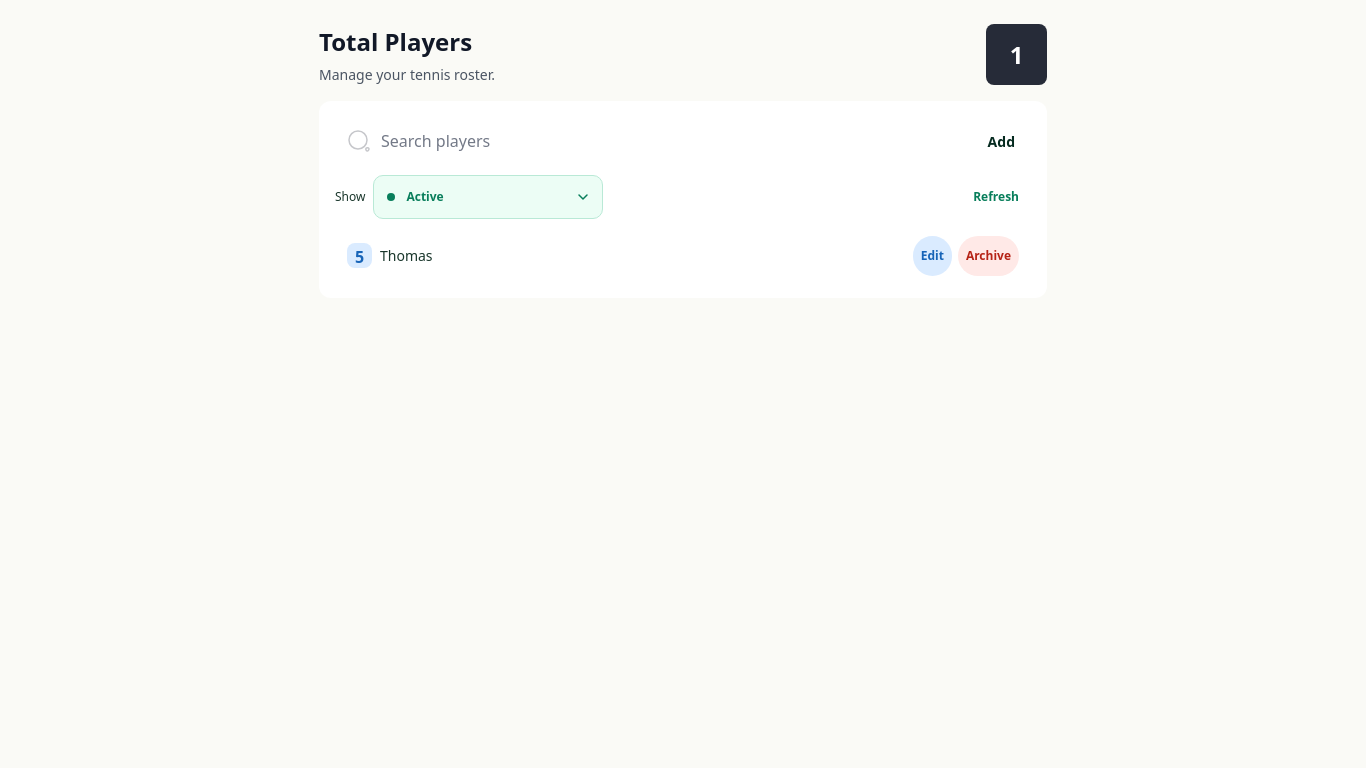
Scenario: normalizes invalid edit skill input to one and clamps values above ten
The image size is (1366, 768).
Click the button with aria-label "Edit Thomas": [932, 256] box [913, 236, 952, 276]
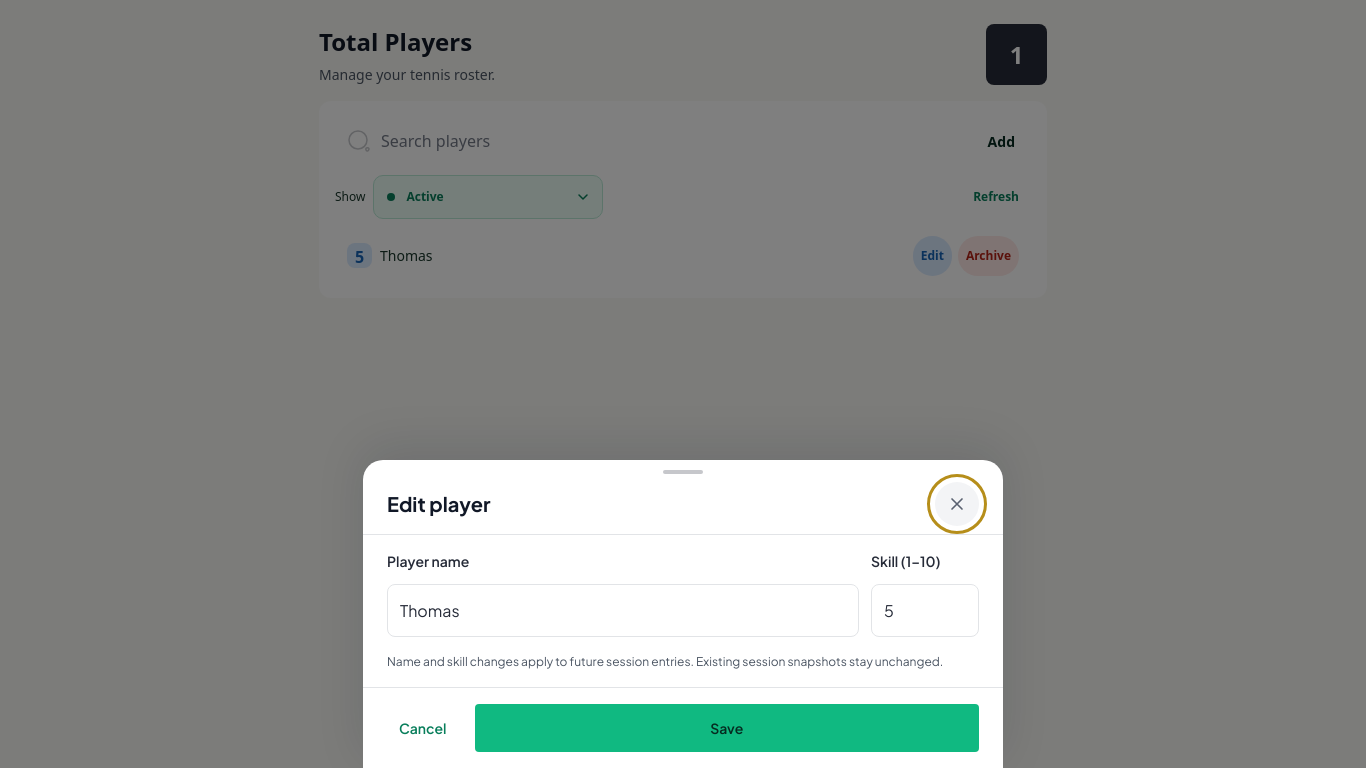
Clear the number field: [925, 610] box [871, 584, 979, 637]
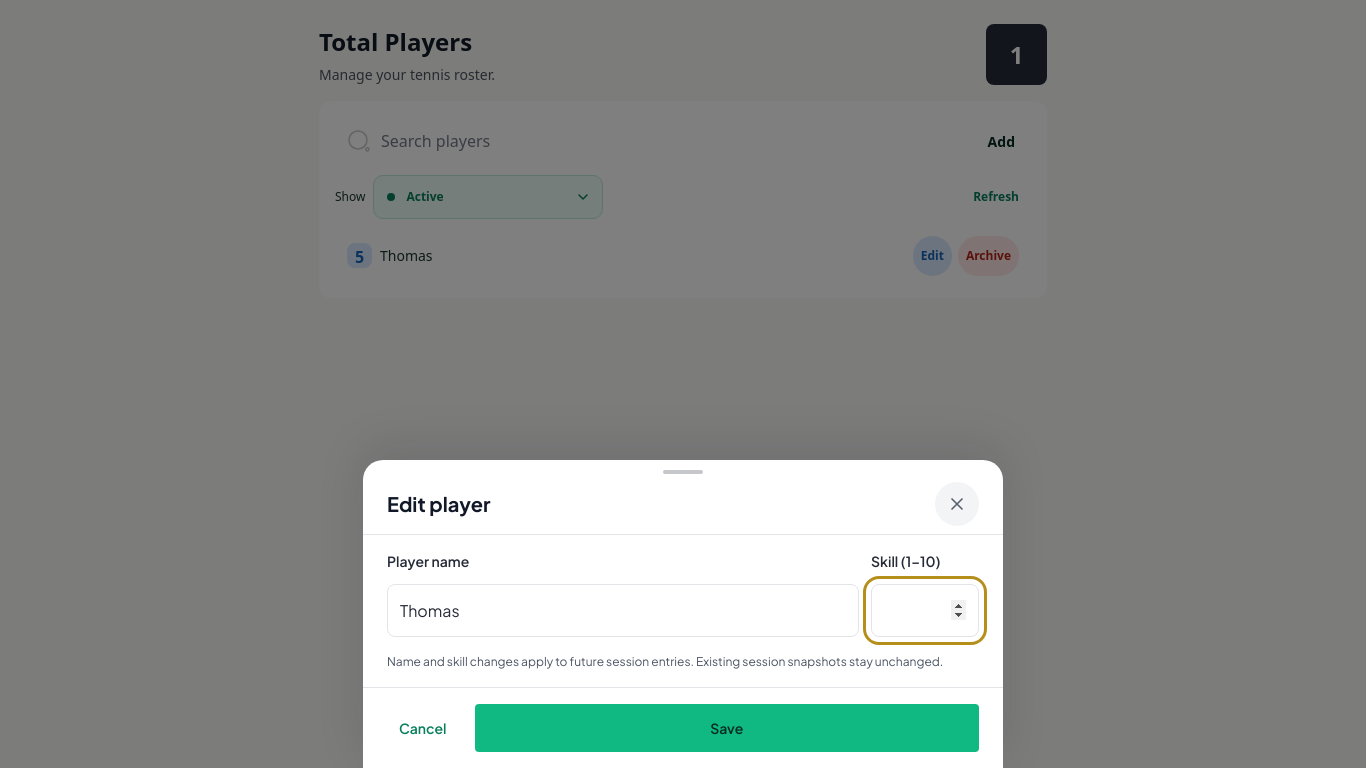
Leave the number field, box [871, 584, 979, 637]
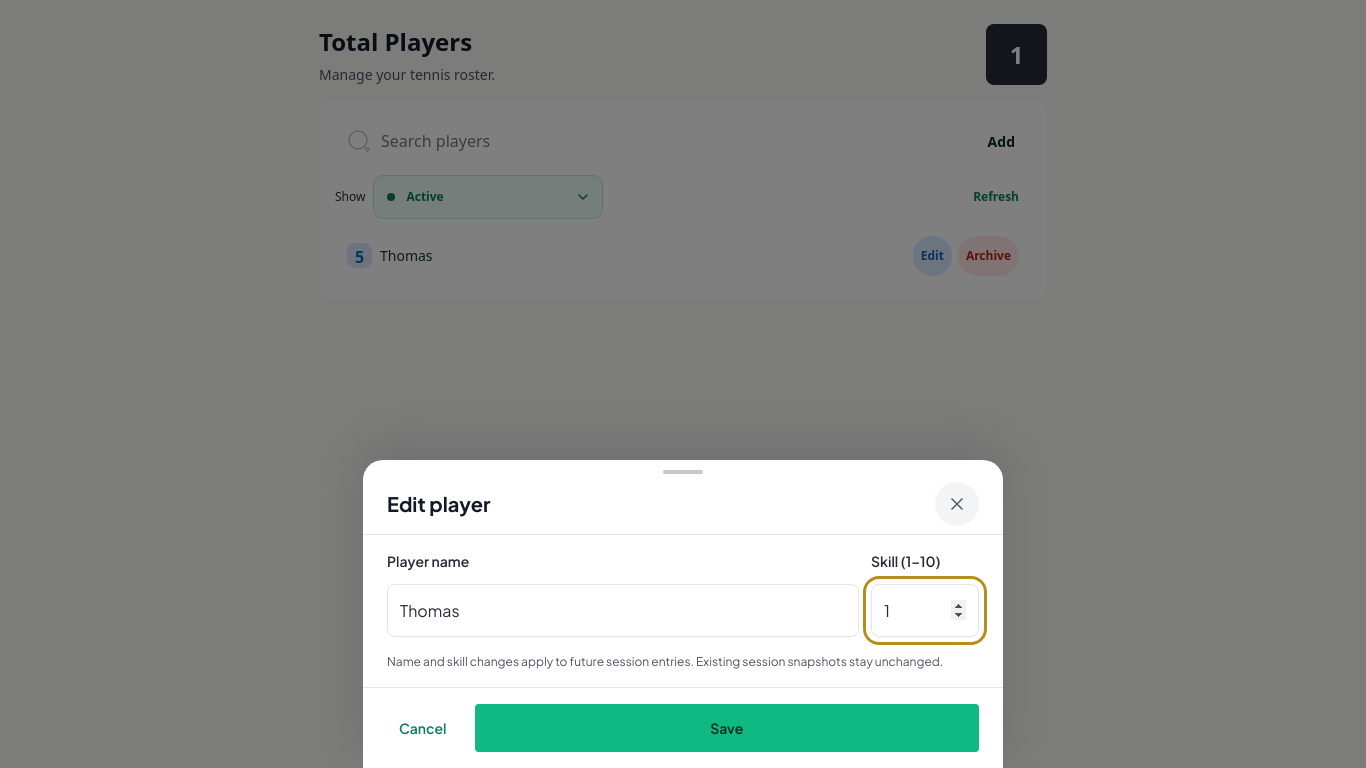
Replace the text in the number field with "11": [925, 610] box [871, 584, 979, 637]
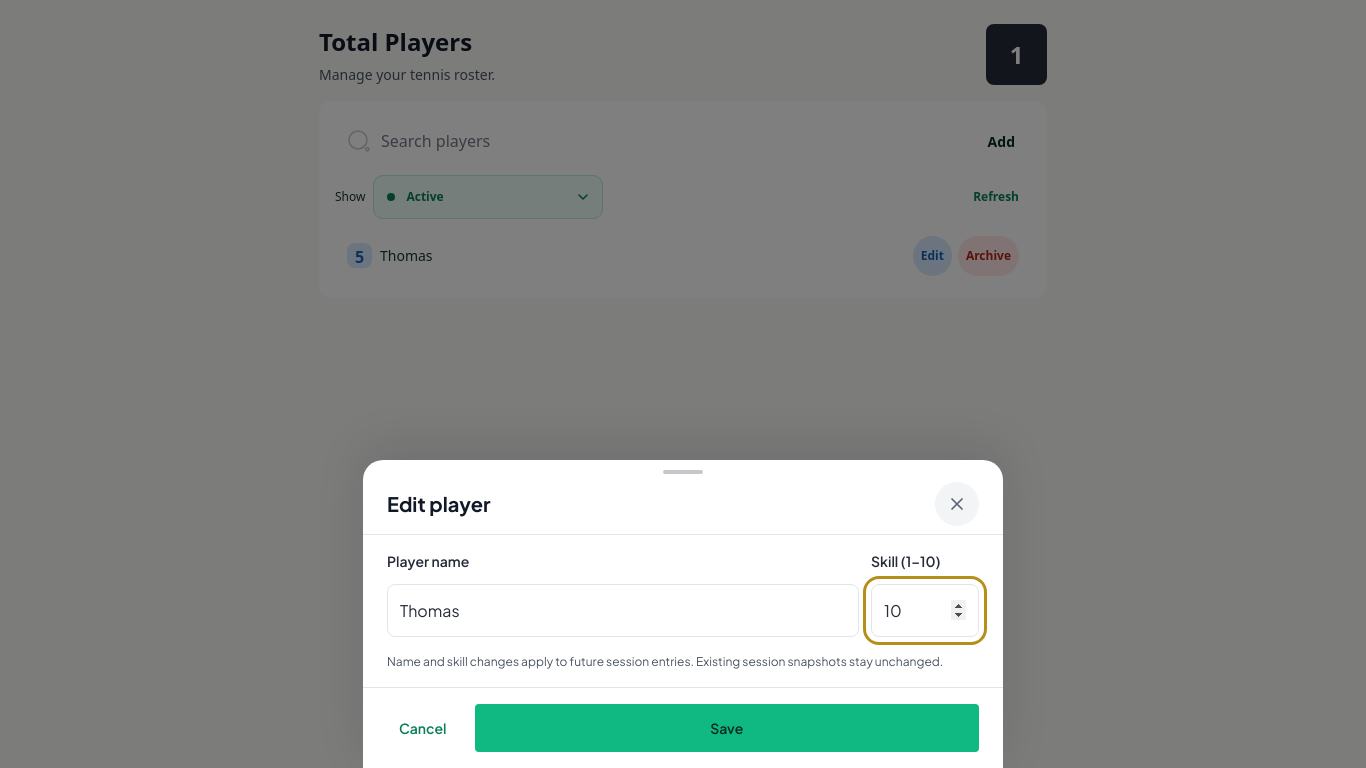
Expected: the number field holds "10", [871, 584, 979, 637]
